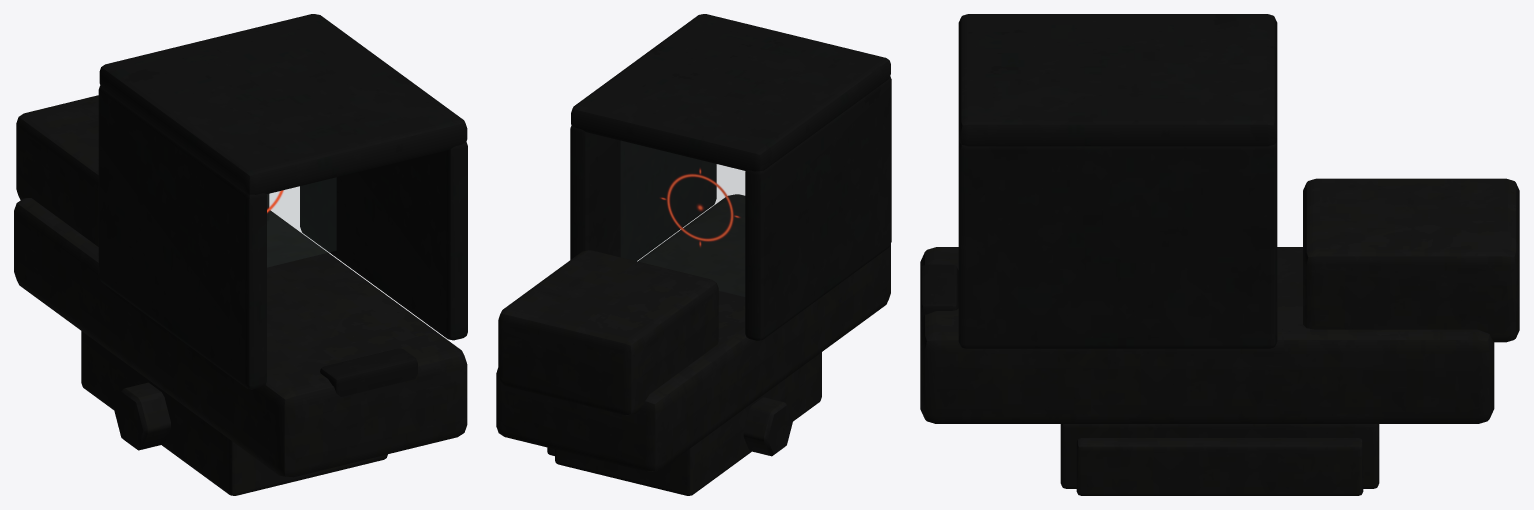
The model's file is holographic.gltf.
3 renders of one model, left to right at view 1: azimuth 30°, elevation 25°; view 2: azimuth 150°, elevation 25°; view 3: azimuth 270°, elevation 25°, orthographic. The views are drawn at different scales.
Parts seen in each view (by area): view 1: Body, Glass; view 2: Body, Glass, Reticle; view 3: Body.
Boxes of the visible parts, x1=… form: Body: x1=14, y1=14, x2=467, y2=495; Glass: x1=267, y1=178, x2=335, y2=266; Body: x1=496, y1=14, x2=891, y2=495; Glass: x1=621, y1=141, x2=744, y2=296; Reticle: x1=661, y1=168, x2=739, y2=246; Body: x1=920, y1=14, x2=1519, y2=495.
Size of the model in its own units: 0.042 by 0.0695 by 0.094.
5 materials, 4 textured.
